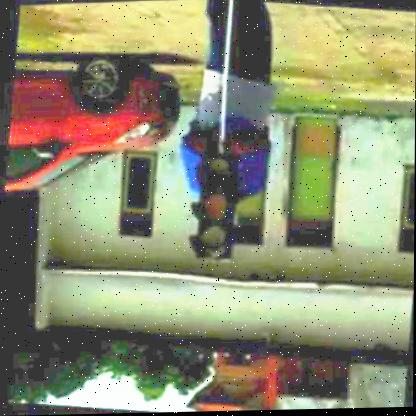Traffic Light -Yellow-: (186, 149, 244, 263)
